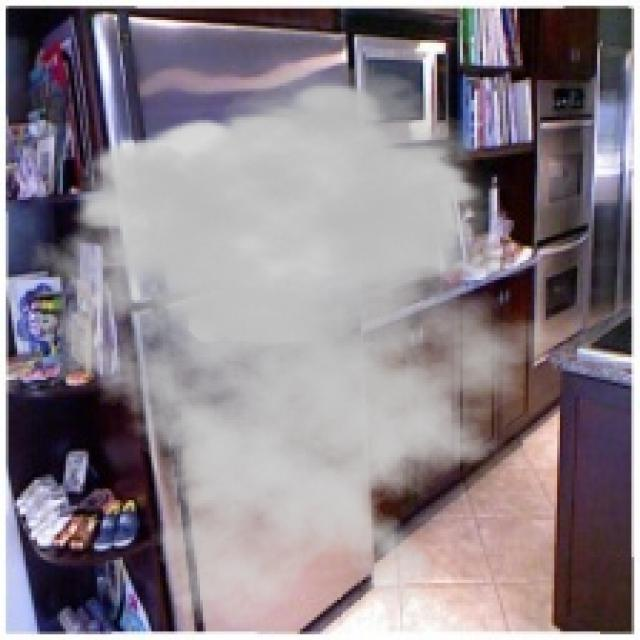smoke: (20, 63, 589, 631)
